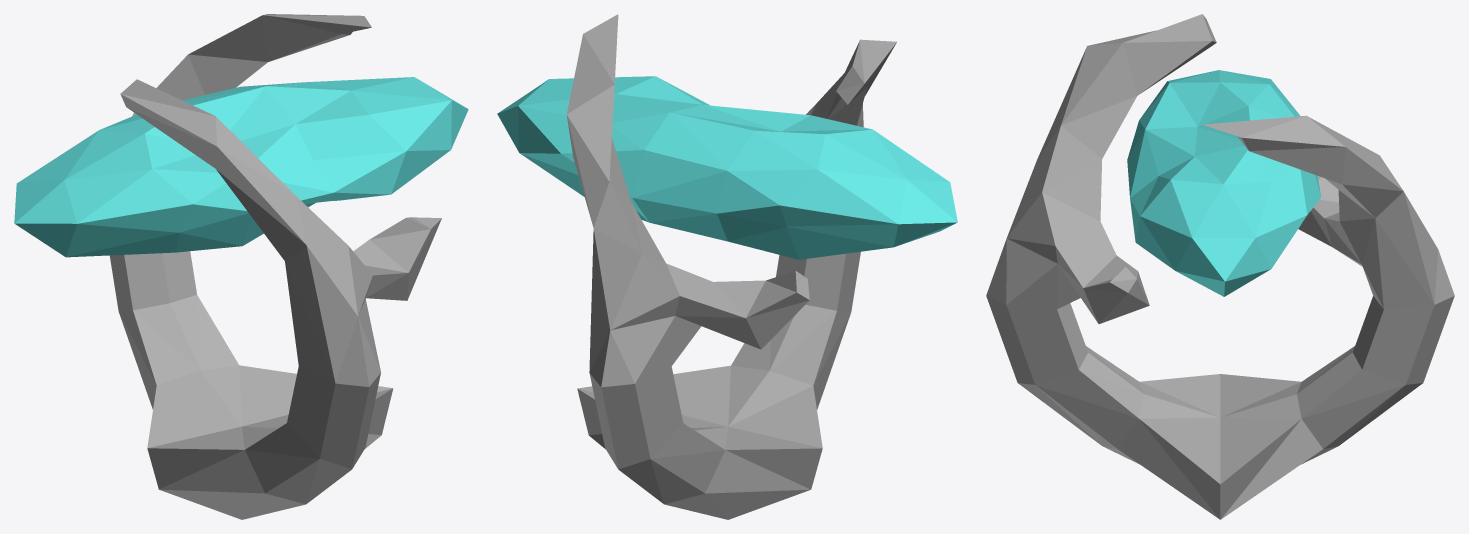
File: Magisches_armband.fbx
The picture shows the model from 3 angles, left to right: view 1: azimuth 30°, elevation 25°; view 2: azimuth 150°, elevation 25°; view 3: azimuth 270°, elevation 25°; orthographic projection. The views are drawn at different scales.
Visible parts, largest first — view 1: Armband, Edelstein; view 2: Armband, Edelstein; view 3: Armband, Edelstein.
Part boxes in pixels (x1=…): Armband: x1=109, y1=14, x2=441, y2=519; Edelstein: x1=14, y1=77, x2=468, y2=257; Armband: x1=566, y1=14, x2=896, y2=519; Edelstein: x1=497, y1=76, x2=957, y2=259; Armband: x1=986, y1=14, x2=1454, y2=519; Edelstein: x1=1127, y1=70, x2=1321, y2=296.
Bounding box in the file's own units: 12.76 × 12.67 × 12.28.
